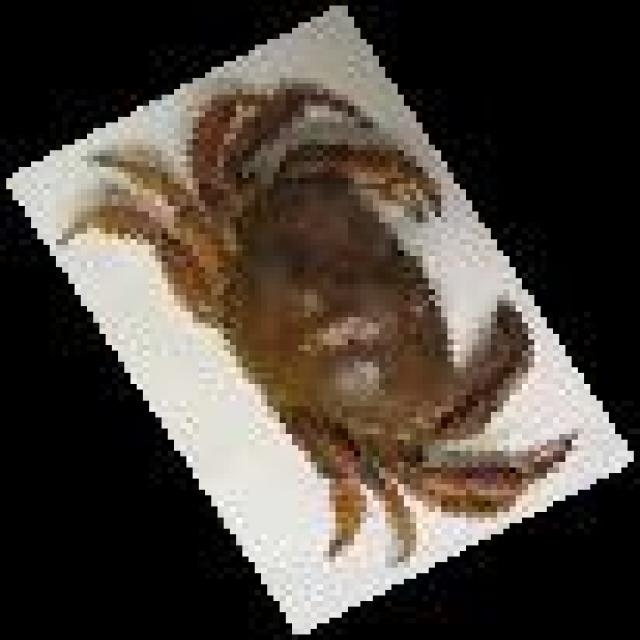Native Rock crab: (68, 78, 572, 557)
